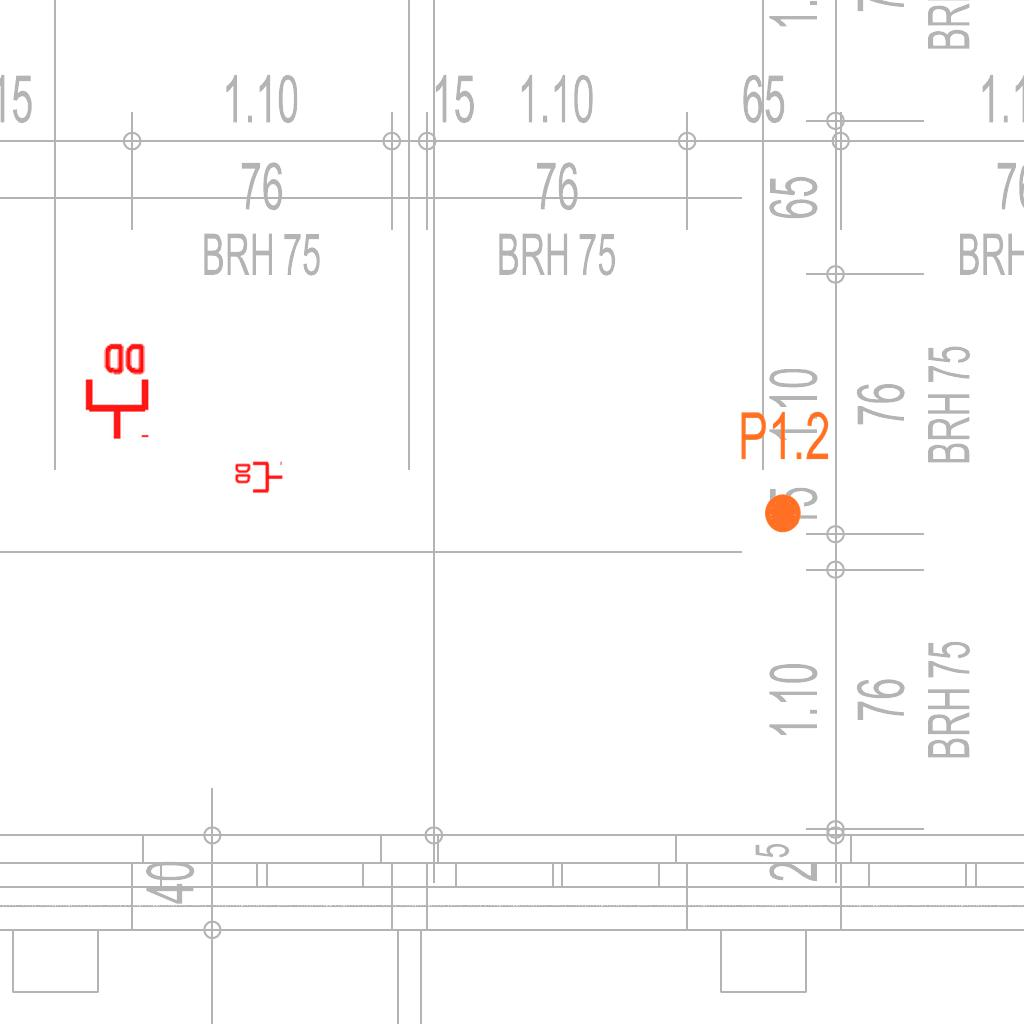Datenanschluss_zweifach: (81, 339, 150, 442), (233, 461, 284, 495)
Downlight_LED_Einbauleuchten_Flur: (738, 408, 831, 536)
